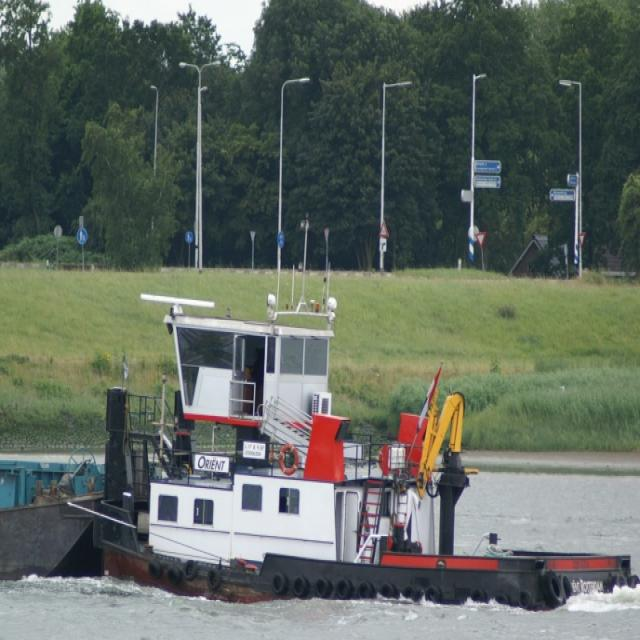tugboat: (87, 282, 640, 632)
